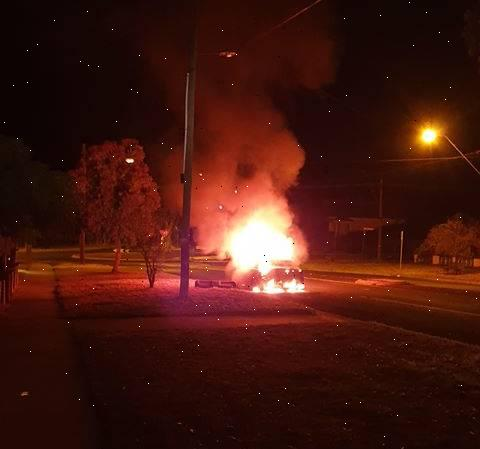fire: (222, 207, 304, 293)
smoke: (153, 88, 312, 204)
